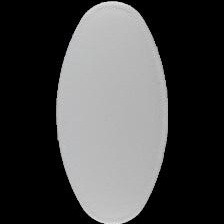58118-0084: (0, 0, 224, 224)
